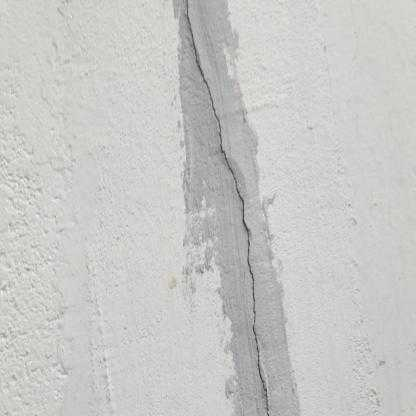crack: (186, 0, 271, 415)
